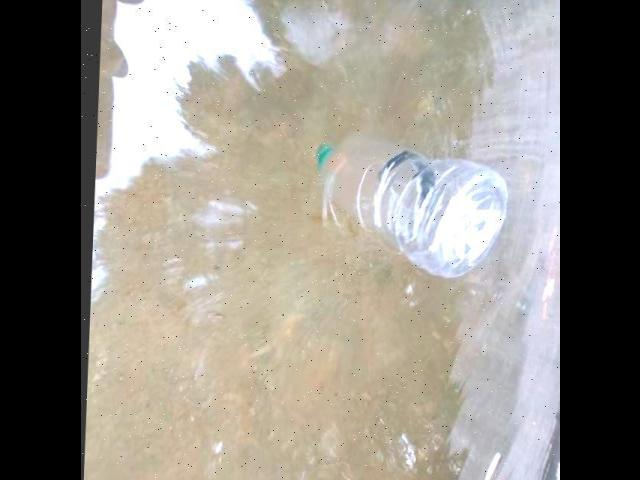Bottle: (298, 124, 514, 286)
